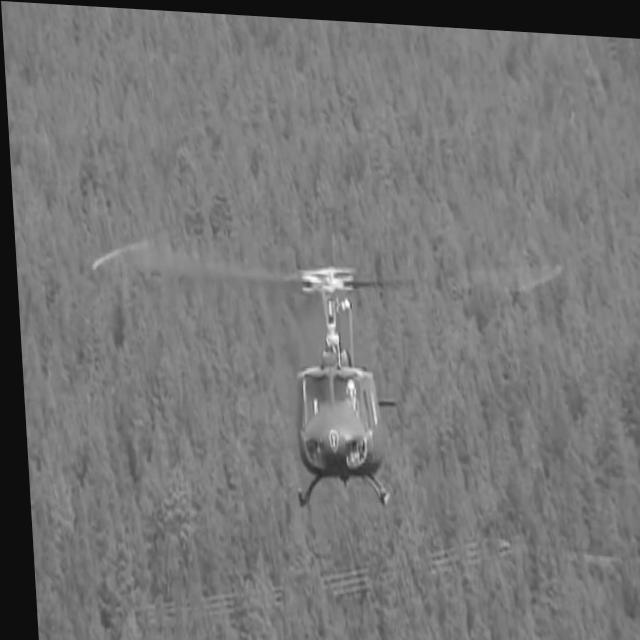helikopter: (164, 242, 463, 534)
